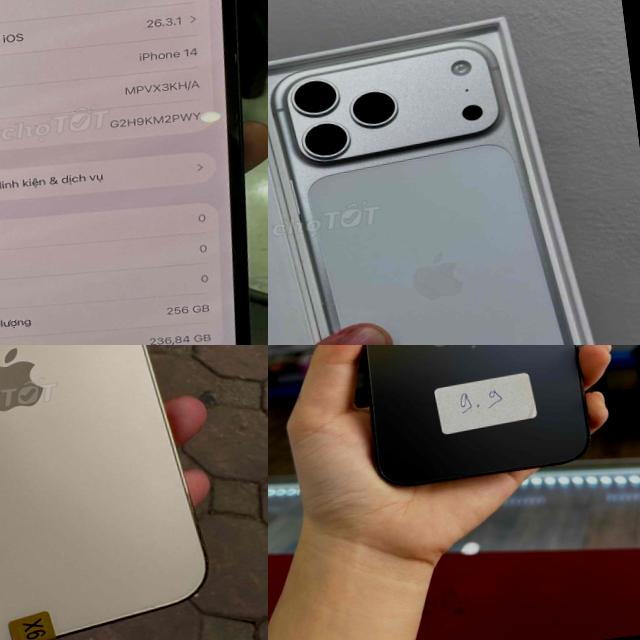gen_12_13: (0, 345, 221, 640), (329, 345, 598, 489)
gen_14: (0, 0, 264, 345)
gen_17: (268, 23, 604, 345)
